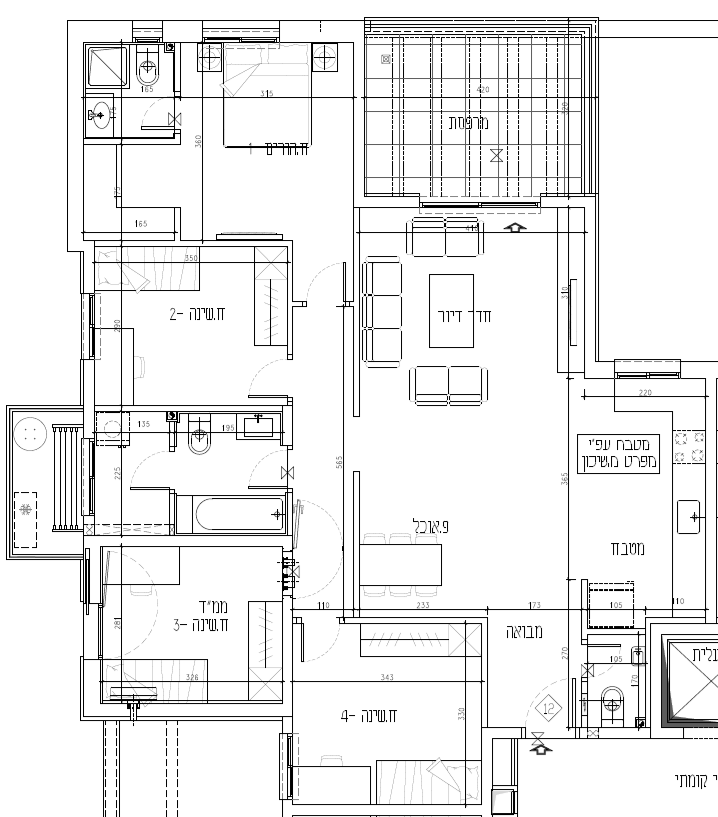wall: (705, 378, 718, 611), (557, 233, 568, 372), (353, 206, 359, 418), (121, 240, 290, 247), (352, 470, 358, 609), (367, 609, 483, 616), (121, 406, 281, 411), (83, 359, 93, 438), (481, 627, 488, 727)
